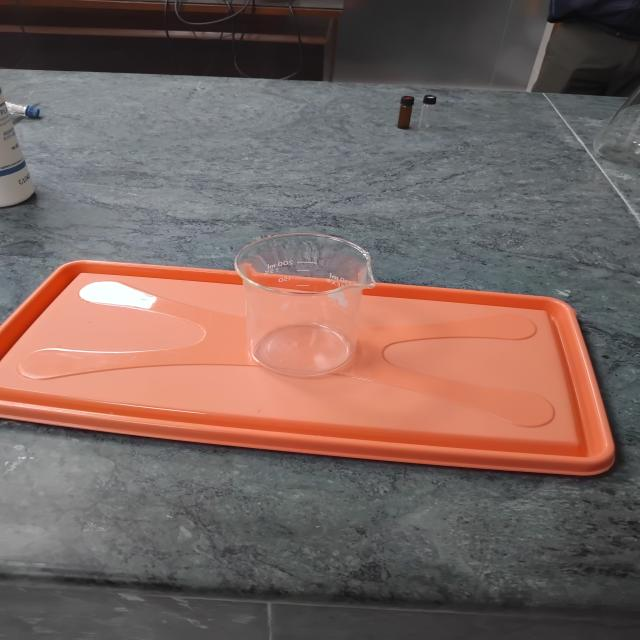Beaker: (175, 205, 428, 419)
